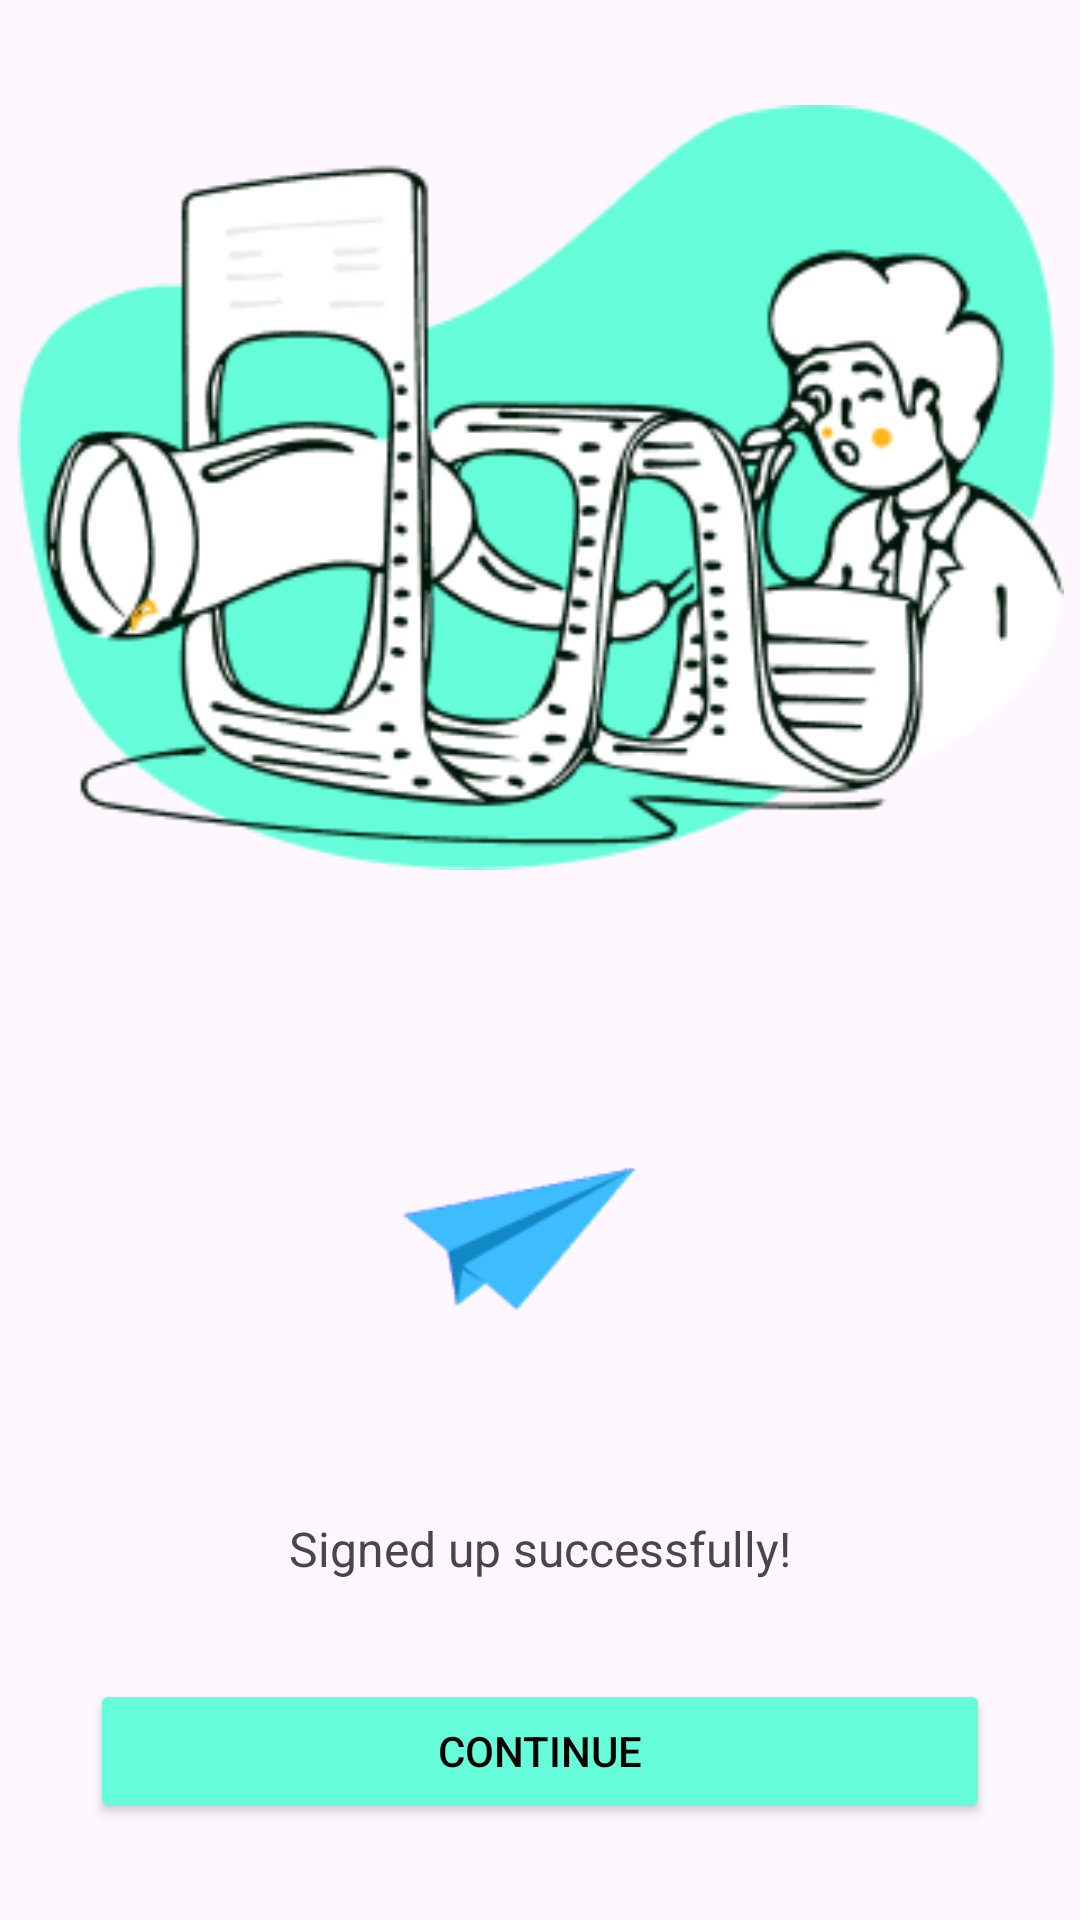

Where to tap for icons on this 1080 × 1920 app screen, as point (x, y):
successfully plane: point (519, 1239)
